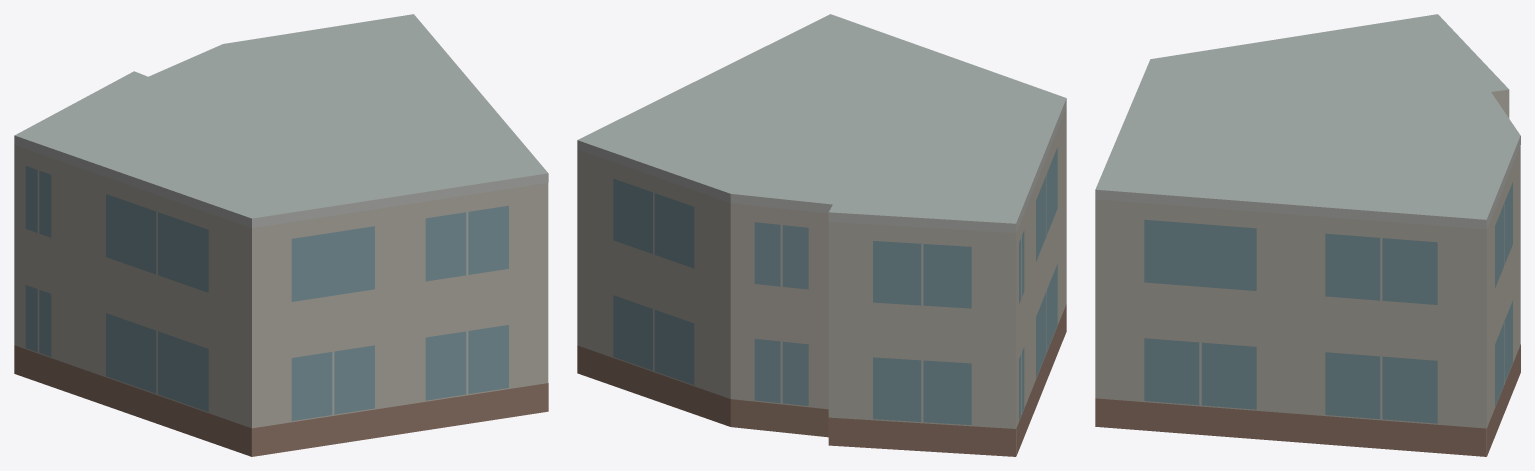
The model's file is survey-upis-32708240.glb.
The picture shows the model from 3 angles, left to right: view 1: azimuth 30°, elevation 25°; view 2: azimuth 150°, elevation 25°; view 3: azimuth 270°, elevation 25°; orthographic projection. The views are drawn at different scales.
Parts seen in each view (by area): view 1: survey-upis-32708240.tmp; view 2: survey-upis-32708240.tmp; view 3: survey-upis-32708240.tmp.
Part boxes in pixels (x1,y1,x2,y2): survey-upis-32708240.tmp: (14, 14, 548, 456); survey-upis-32708240.tmp: (577, 14, 1066, 456); survey-upis-32708240.tmp: (1095, 14, 1520, 456).
Bounding box in the file's own units: 11.37 × 6.1 × 9.93.
